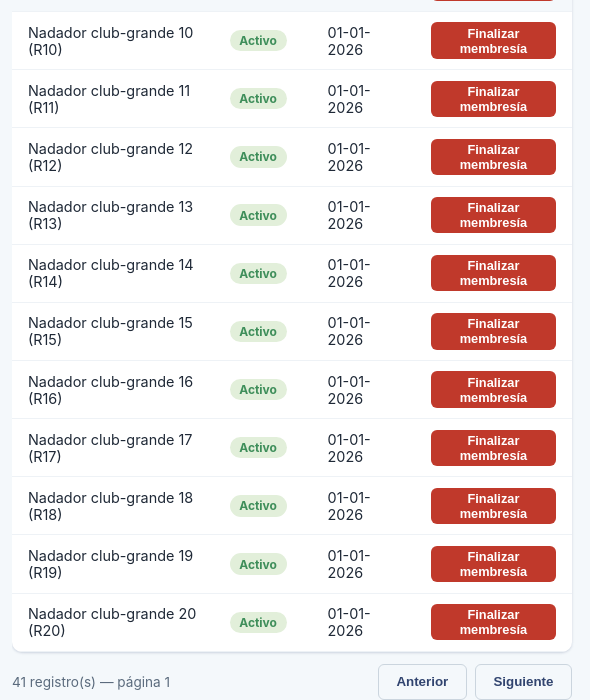
Test: estados y recuperación de la tabla › la PÁGINA queda fuera de rango tras finalizar la última fila: vuelve a la última válida
The image size is (590, 700).
(page scrolled)
What coordinates should you click on to do the following:
click the button "Siguiente"
I would click on:
 (523, 682)
Its box is [475,664,572,699].
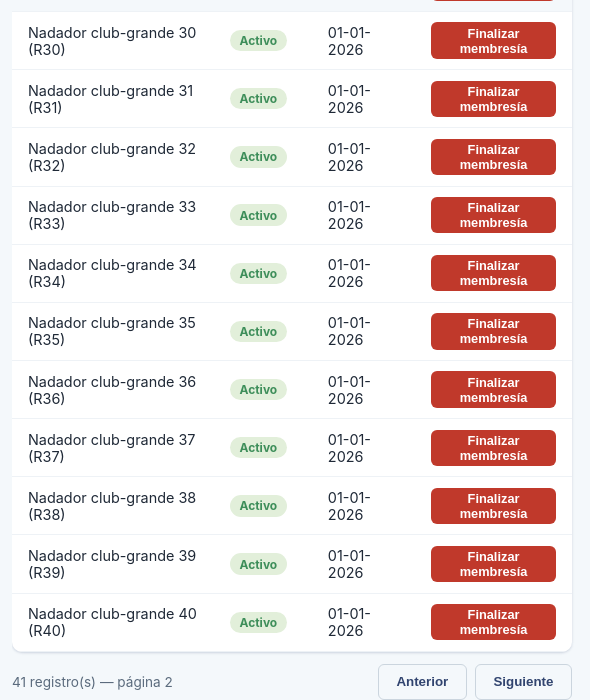
What coordinates should you click on to do the following:
click the button "Siguiente"
I would click on:
 (523, 682)
Its box is [475,664,572,699].
(page scrolled)
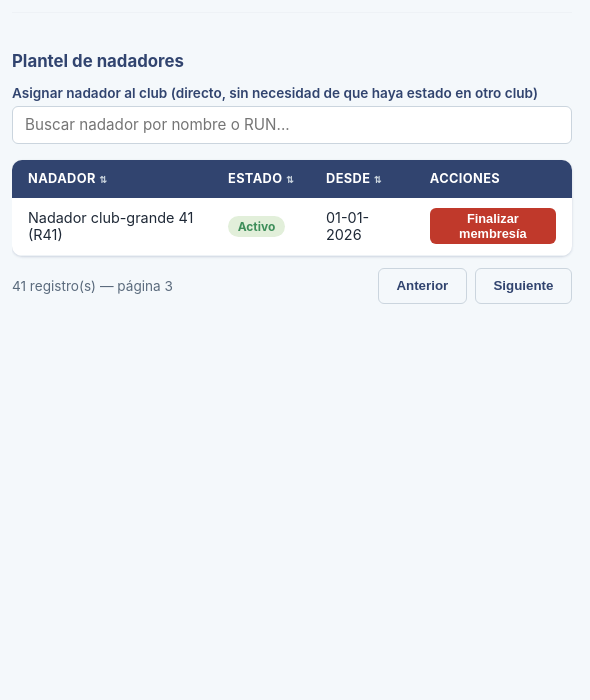
Now the text "Nadador club-grande 41 (R41)" is shown, box [12,198,212,255]
What coordinates should you click on to do the following:
click the button "Finalizar membresía"
I would click on:
 (493, 226)
Its box is [430,208,556,244].
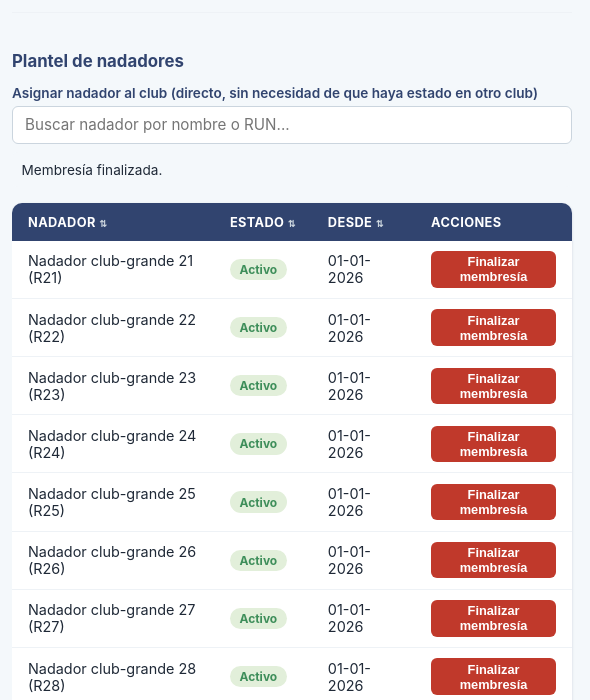
Now the text "Nadador club-grande 21 (R21)" is shown, box [12,241,214,298]
